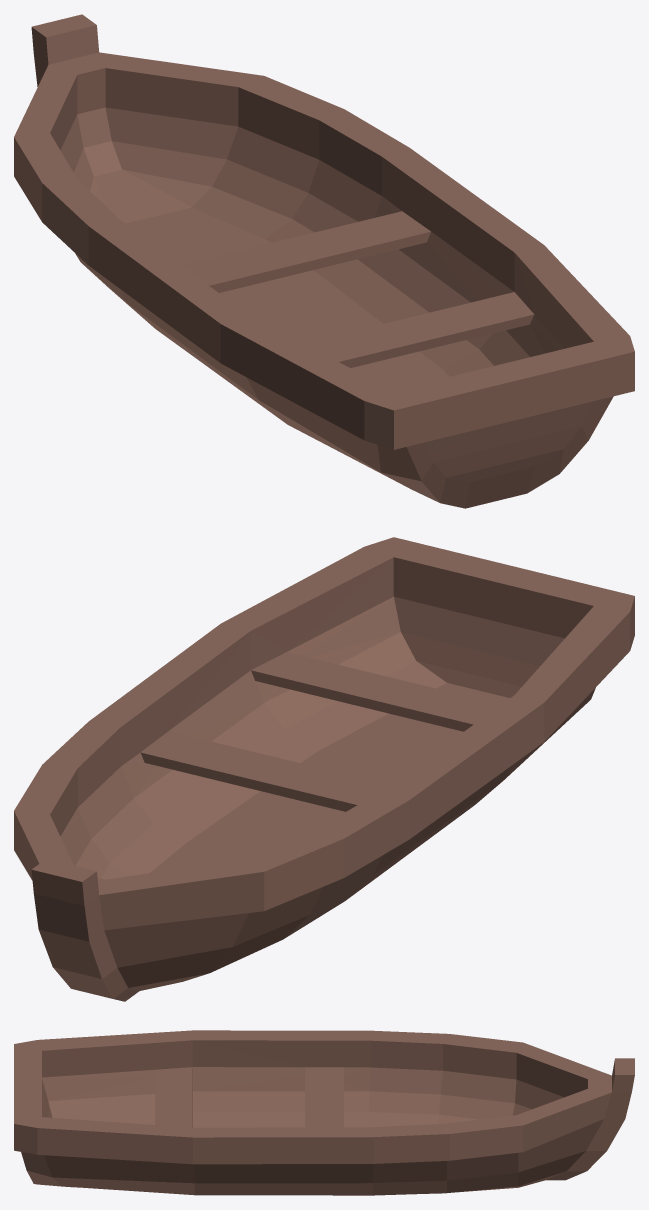
Rendered from rowboat.fbx.
3 views of the same model, one above another, from view 1: azimuth 30°, elevation 25°; view 2: azimuth 150°, elevation 25°; view 3: azimuth 270°, elevation 25° (orthographic). The views are drawn at different scales.
Parts seen in each view (by area): view 1: rowboat; view 2: rowboat; view 3: rowboat.
Part boxes in pixels (x1=…): rowboat: x1=14, y1=14, x2=634, y2=508; rowboat: x1=14, y1=537, x2=634, y2=1001; rowboat: x1=14, y1=1030, x2=634, y2=1195.
Bounding box in the file's own units: 312 × 763 × 146.
